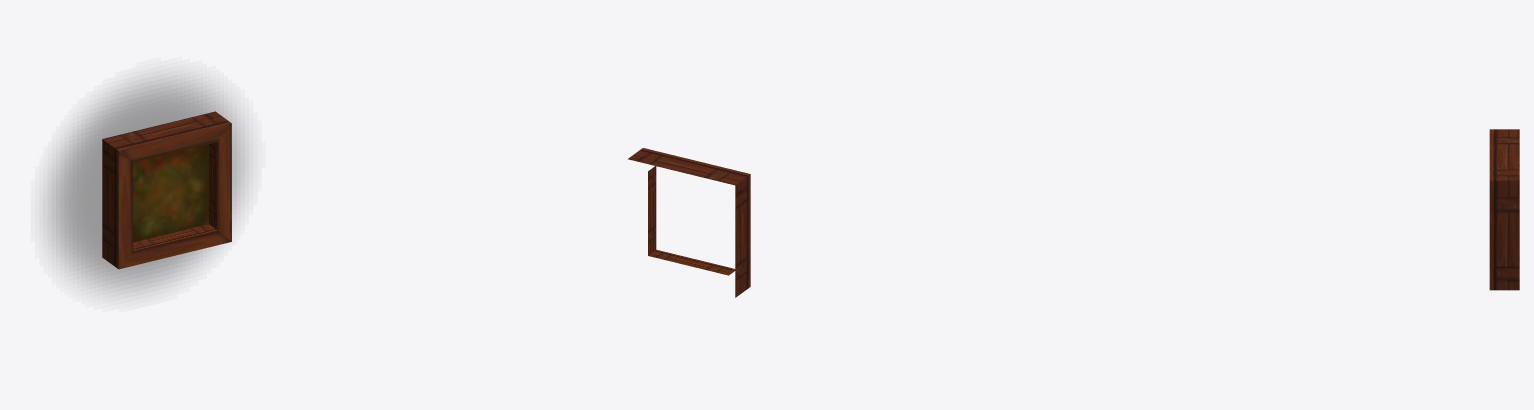
The model's file is prop_snow_tree_small_woodbox_ul.glb.
The picture shows the model from 3 angles, left to right: view 1: azimuth 30°, elevation 25°; view 2: azimuth 150°, elevation 25°; view 3: azimuth 270°, elevation 25°; orthographic projection. The views are drawn at different scales.
Visible parts, largest first — view 1: tree_planter_box3_2, shadow_snow_tree_small_woodbox_ul; view 2: tree_planter_box3_2; view 3: tree_planter_box3_2.
Part boxes in pixels (x1,y1,x2,y2): tree_planter_box3_2: (102,111,231,269); shadow_snow_tree_small_woodbox_ul: (47,76,244,293); tree_planter_box3_2: (628,148,750,297); tree_planter_box3_2: (1489,129,1519,290).
Bounding box in the file's own units: 13.99 × 12.32 × 23.14.
4 materials, 4 textured.
